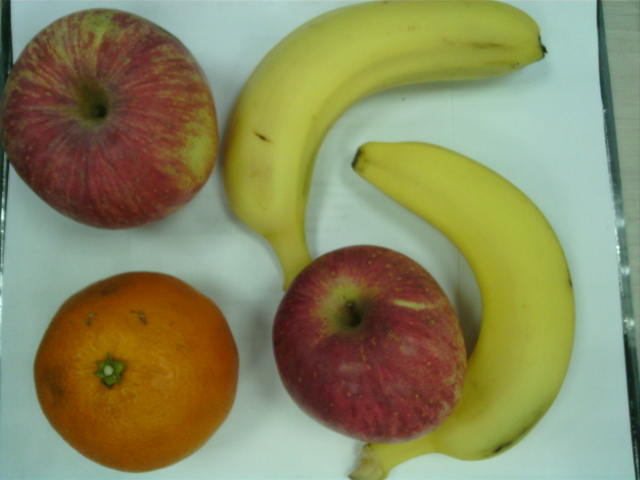normal_apple: (8, 8, 217, 231), (273, 245, 464, 443)
normal_banana: (220, 1, 548, 263), (352, 142, 574, 480)
normal_orange: (31, 271, 239, 472)
